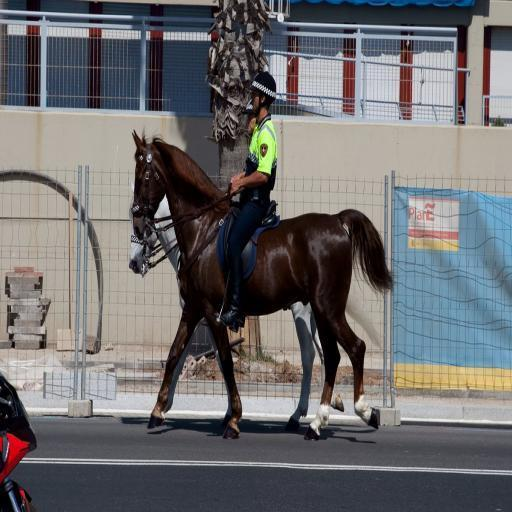horse: (129, 126, 397, 438), (126, 180, 349, 432)
